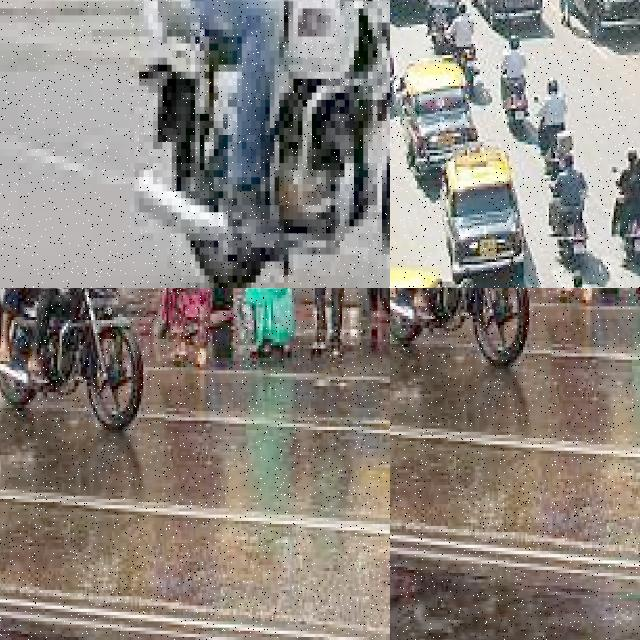bike: (125, 0, 390, 288), (0, 288, 151, 445), (390, 288, 537, 381), (544, 175, 594, 279), (491, 64, 538, 134), (615, 161, 640, 270)
